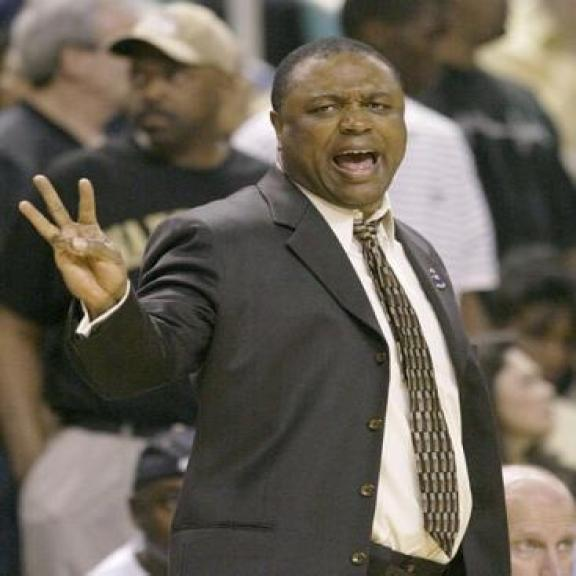face: (272, 61, 411, 204), (117, 45, 256, 154), (352, 9, 457, 108), (484, 483, 576, 576), (493, 280, 576, 383), (125, 466, 196, 566), (482, 344, 554, 439)
